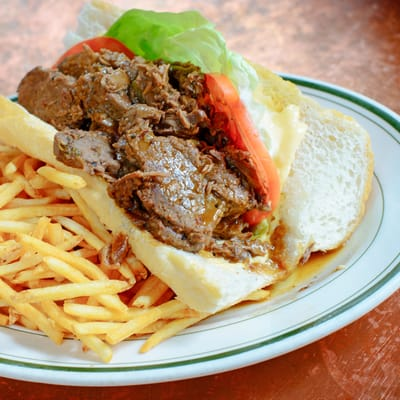soup: (2, 31, 350, 318)
